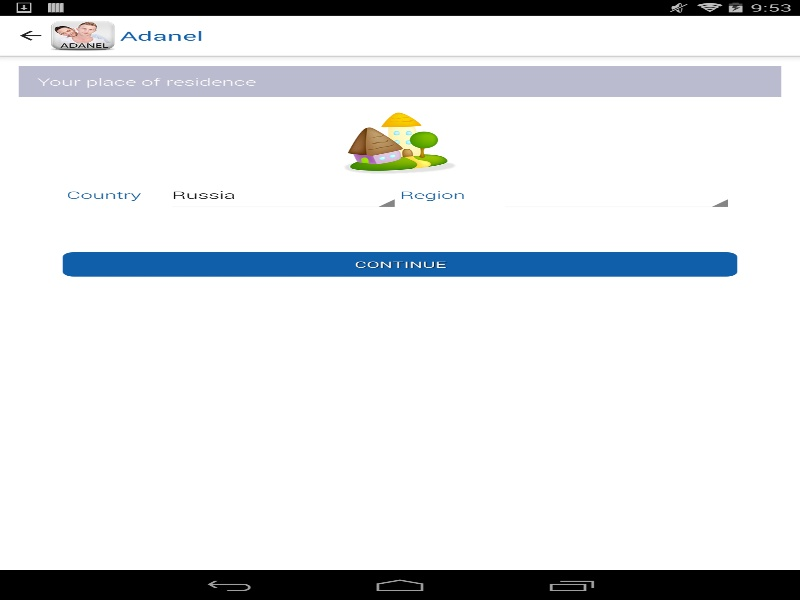Button: (58, 250, 741, 278), (253, 162, 546, 190), (253, 199, 546, 227), (253, 252, 546, 280), (10, 18, 50, 53)
Input: (21, 127, 778, 152), (21, 103, 778, 127)
